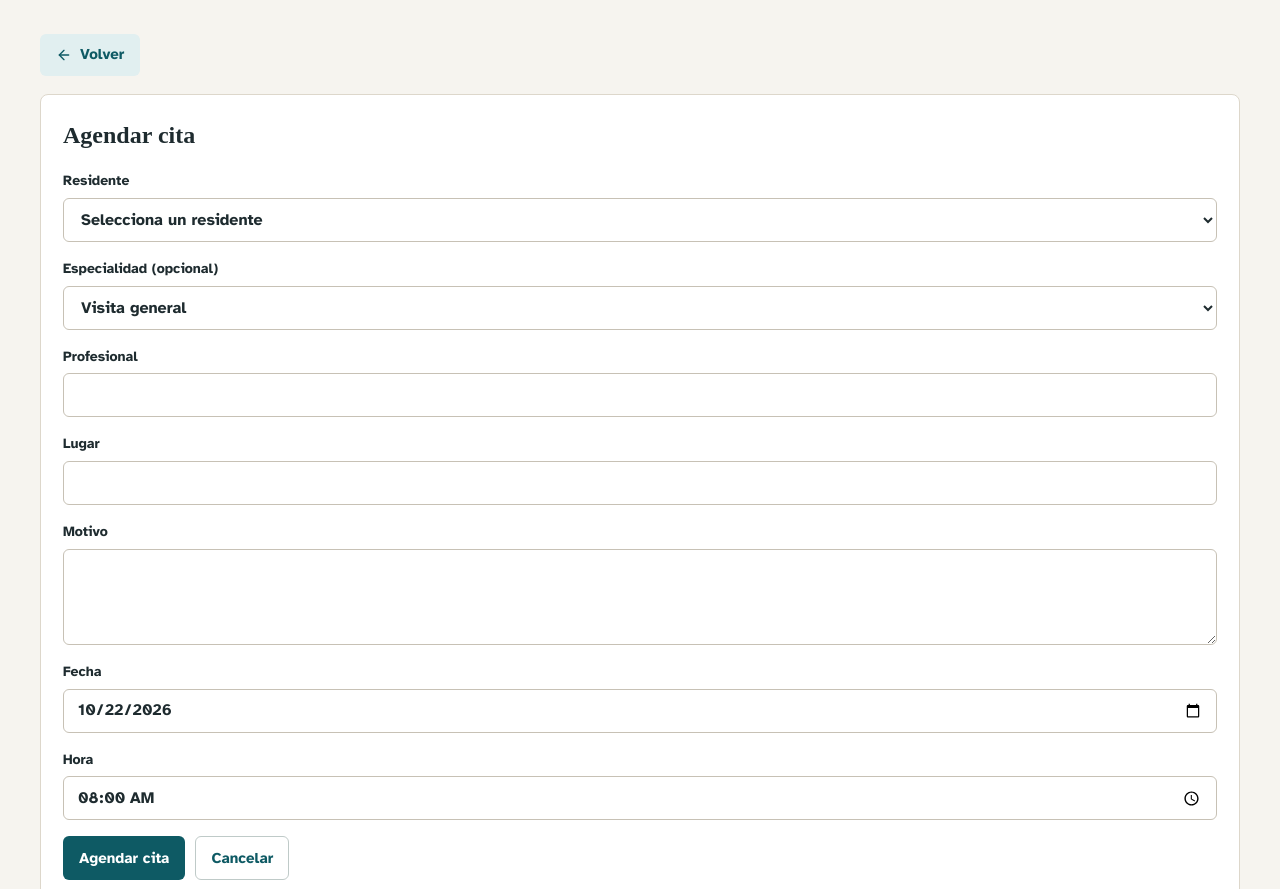
Test: FormularioCita › exige seleccionar un residente antes de enviar
The width and height of the screenshot is (1280, 889).
Click the button "Agendar cita". click: (124, 858)
box: left=63, top=836, right=185, bottom=880
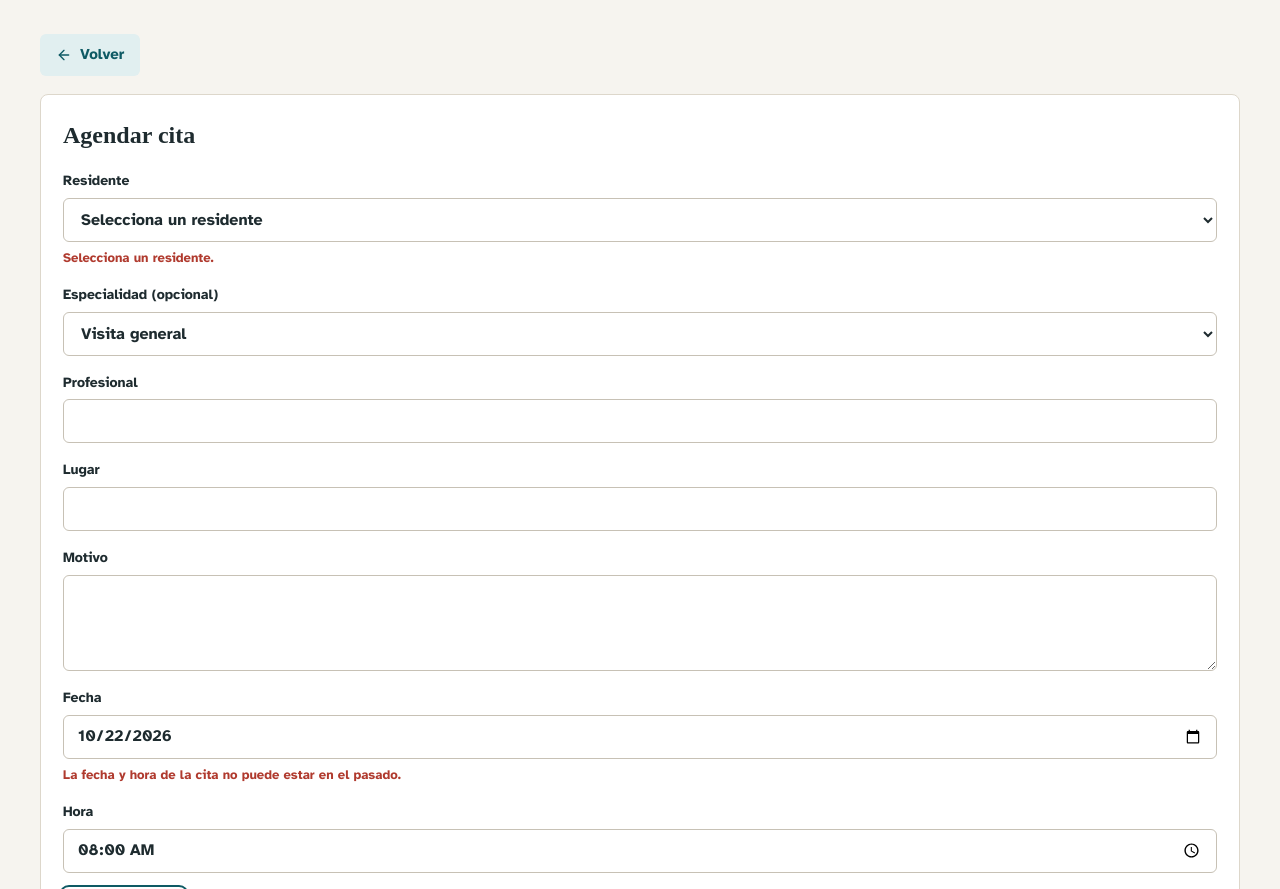
Now the text "Selecciona un residente." is shown, box left=63, top=250, right=214, bottom=266
